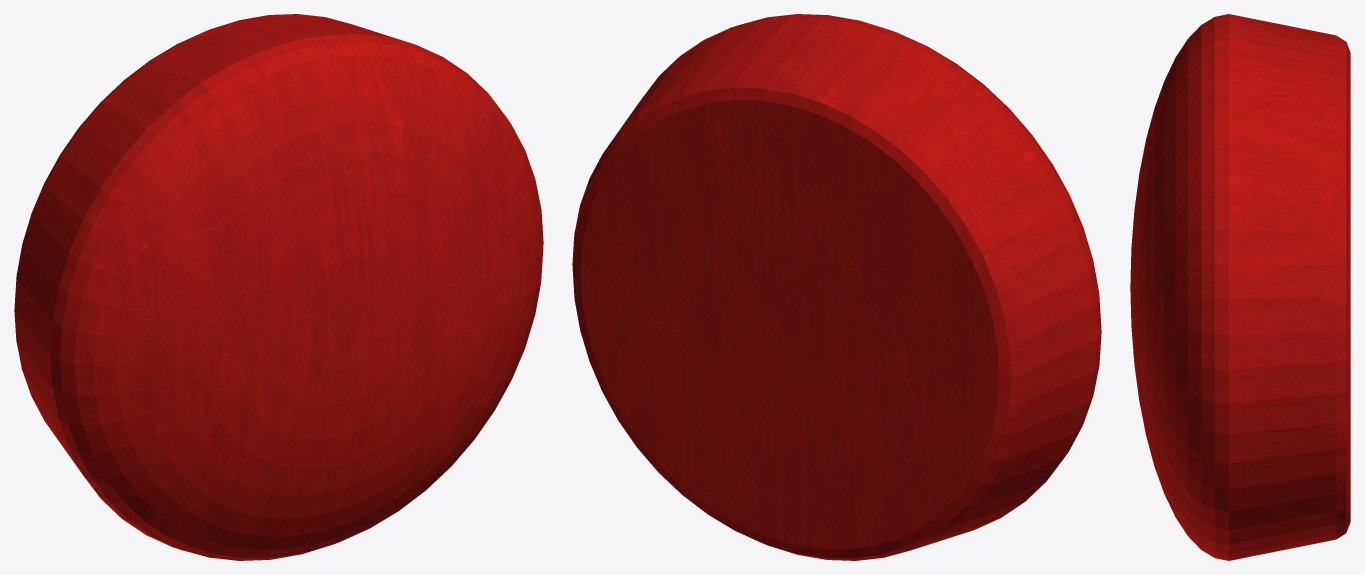
The model's file is button_cap_vis.obj.
3 renders of one model, left to right at view 1: azimuth 30°, elevation 25°; view 2: azimuth 150°, elevation 25°; view 3: azimuth 270°, elevation 25°, orthographic. The views are drawn at different scales.
Size of the model in its own units: 0.045 by 0.045 by 0.0181.
Materials: 1 (1 with a texture image).
